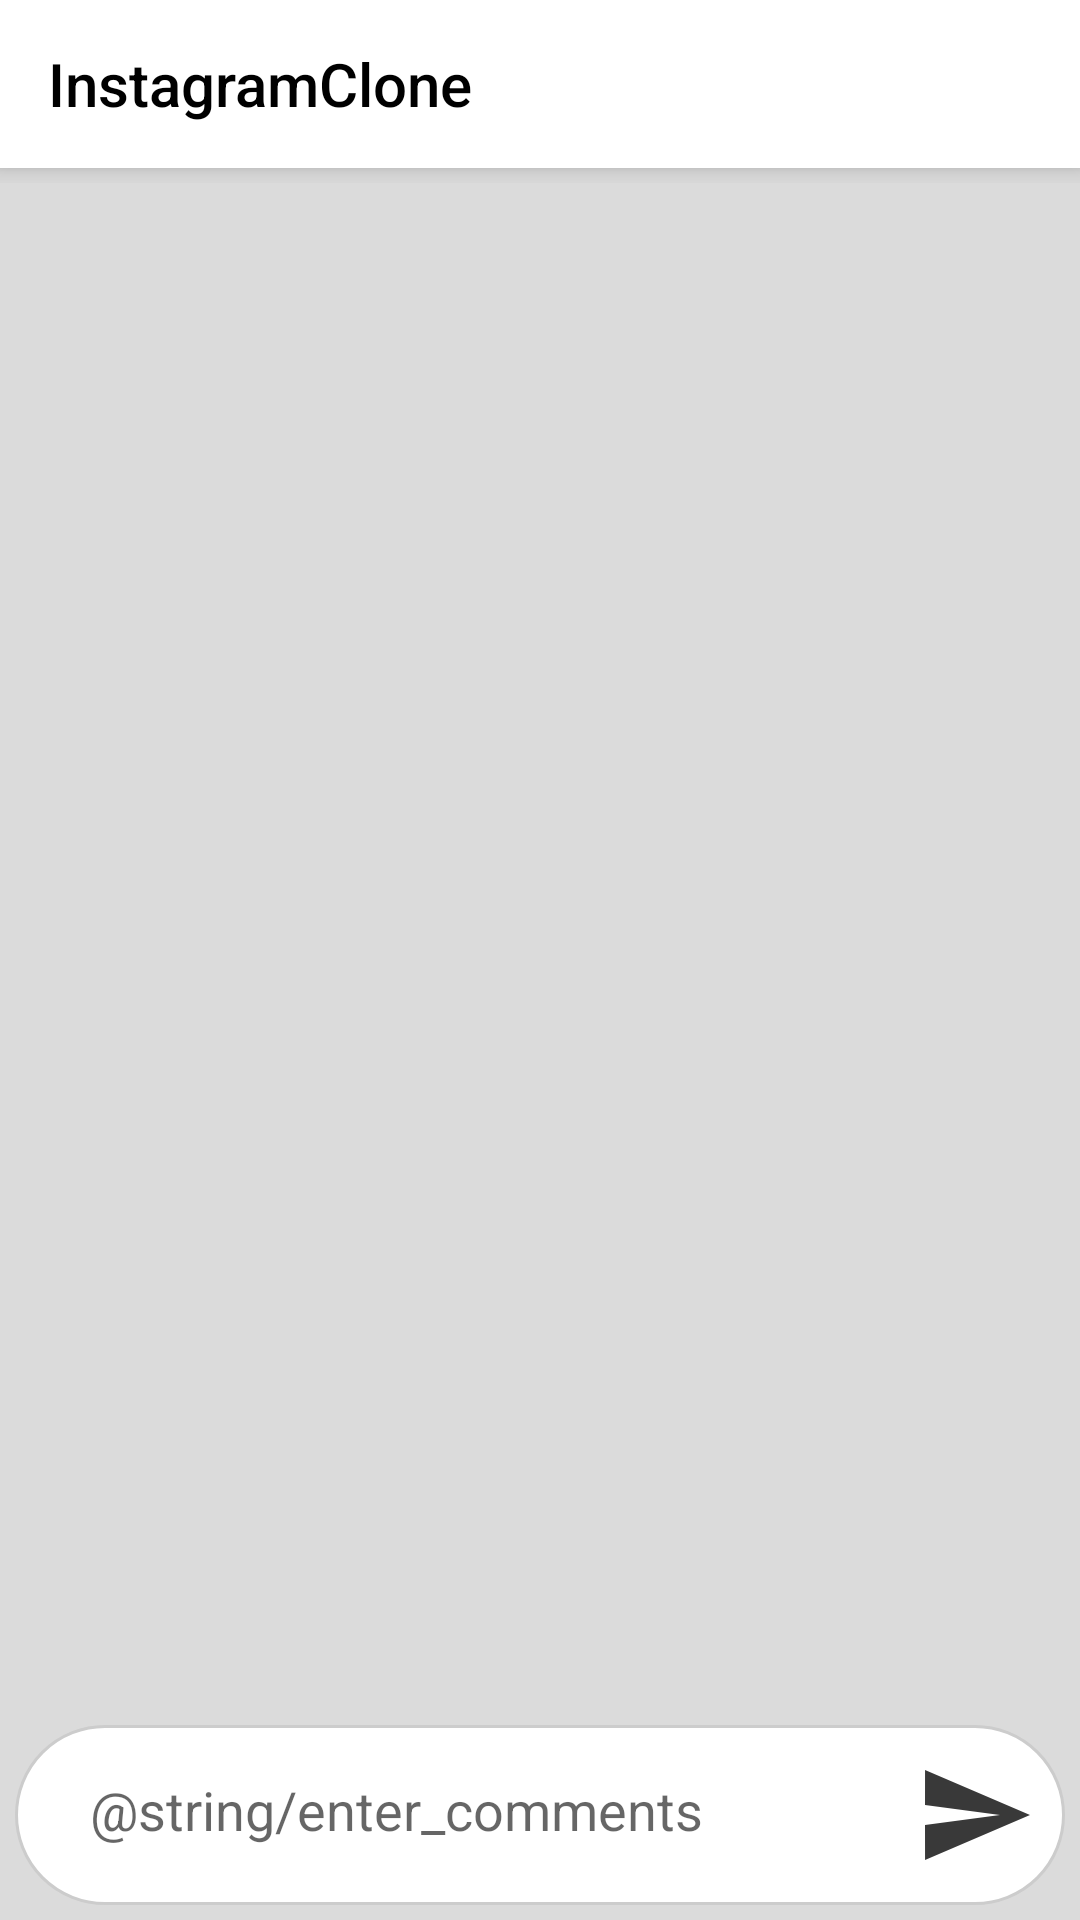

Locate icon controls on the screen. Image size 1080x1920, boxes as (x1,y1,x2,y2).
send: (925,1770,1030,1860)
